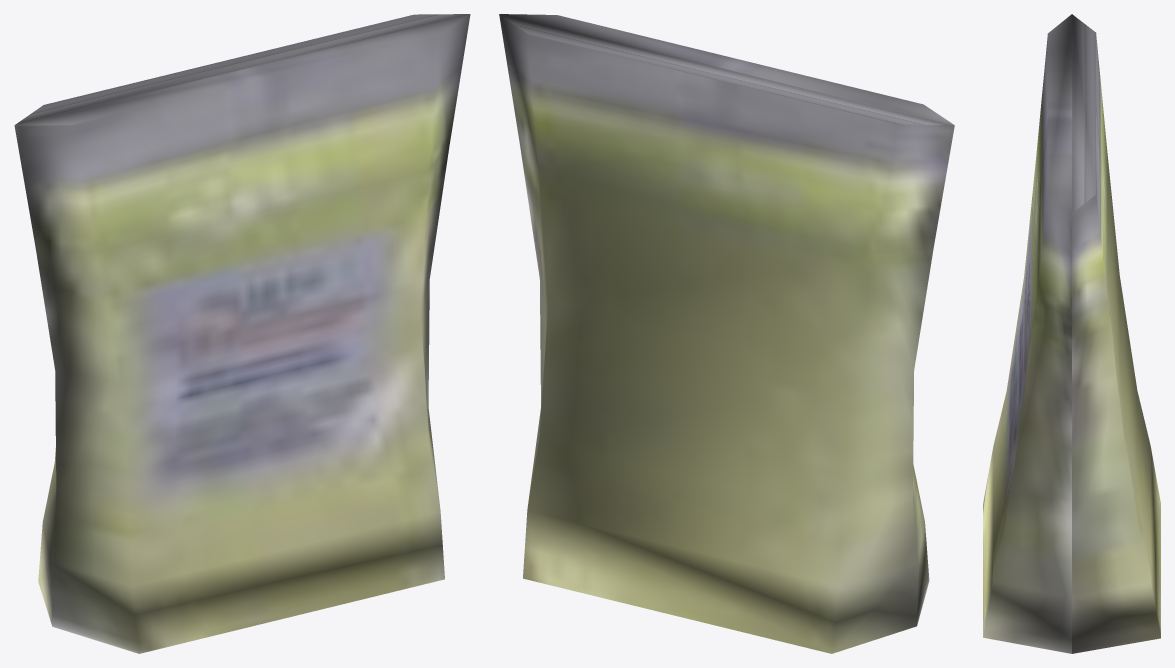
File: zinc_powder.FBX
3 views of the same model, side by side, from view 1: azimuth 30°, elevation 25°; view 2: azimuth 150°, elevation 25°; view 3: azimuth 270°, elevation 25° (orthographic). The views are drawn at different scales.
Parts seen in each view (by area): view 1: zinc_powder; view 2: zinc_powder; view 3: zinc_powder.
Part boxes in pixels (x1=…): zinc_powder: x1=14, y1=14, x2=470, y2=653; zinc_powder: x1=499, y1=14, x2=954, y2=653; zinc_powder: x1=983, y1=14, x2=1160, y2=653.
Size of the model in its own units: 61.75 by 66.07 by 23.29.
